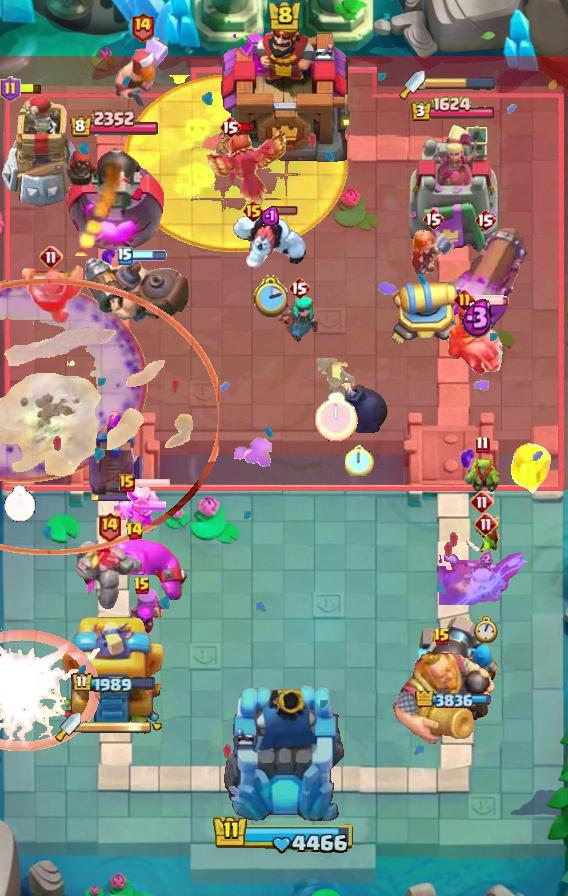arrows: (112, 480, 166, 534)
baby-dragon: (329, 362, 389, 434)
bar: (406, 122, 500, 256), (62, 611, 166, 731)
barbarian-evolution: (0, 629, 100, 751)
clock: (212, 814, 356, 856)
clone: (78, 538, 190, 604)
electro-spirit: (461, 298, 494, 339), (261, 205, 279, 226), (479, 550, 493, 568)
elite-barbarian: (447, 301, 507, 377)
elixir: (314, 392, 357, 442), (252, 275, 288, 317), (4, 485, 36, 523), (346, 444, 375, 476), (474, 616, 498, 644)
emote: (7, 81, 43, 94), (472, 294, 510, 306), (134, 477, 171, 489), (131, 250, 167, 261), (262, 206, 298, 216), (240, 122, 257, 133)
firecracker: (19, 261, 83, 327)
fisherman: (317, 358, 355, 398)
furnace: (442, 223, 528, 347)
giant-skeleton: (388, 651, 496, 747)
golden-knight: (202, 125, 288, 207)
hog-rider: (411, 229, 455, 279)
ice-spirit-evolution-symbol: (86, 411, 146, 503)
king-tower: (211, 7, 357, 181), (221, 682, 347, 826)
king-tower-bar: (81, 720, 153, 734), (425, 77, 495, 91)
mighty-miner: (113, 34, 171, 110)
mini-pekka: (439, 541, 533, 605)
phoenix-egg: (123, 76, 349, 253)
rage: (231, 211, 309, 271)
rascal-girl: (116, 586, 168, 650)
rocket: (0, 279, 148, 483)
royal-ghost: (1, 279, 219, 555)
royal-recruit: (386, 265, 460, 349)
selected: (68, 110, 159, 139), (410, 97, 496, 124), (71, 672, 157, 696), (416, 692, 493, 708)
text: (130, 11, 154, 42), (98, 511, 122, 542), (39, 245, 63, 269), (470, 490, 494, 514), (474, 512, 498, 536), (242, 199, 265, 223), (219, 115, 241, 139), (422, 207, 444, 231), (474, 208, 496, 232), (288, 276, 310, 300), (0, 76, 20, 102), (453, 289, 474, 310), (124, 521, 143, 541), (133, 576, 151, 596), (433, 627, 451, 647), (117, 247, 133, 265), (119, 474, 135, 492), (475, 435, 490, 454)
tower-bar: (63, 138, 164, 256), (403, 615, 503, 731)
valkyrie: (506, 440, 554, 502)
valkyrie-evolution: (73, 539, 145, 611)
witch: (277, 295, 321, 345)
wizard: (81, 255, 193, 325)
zap: (463, 452, 501, 492), (464, 515, 500, 553)
zappy: (0, 93, 84, 209)
